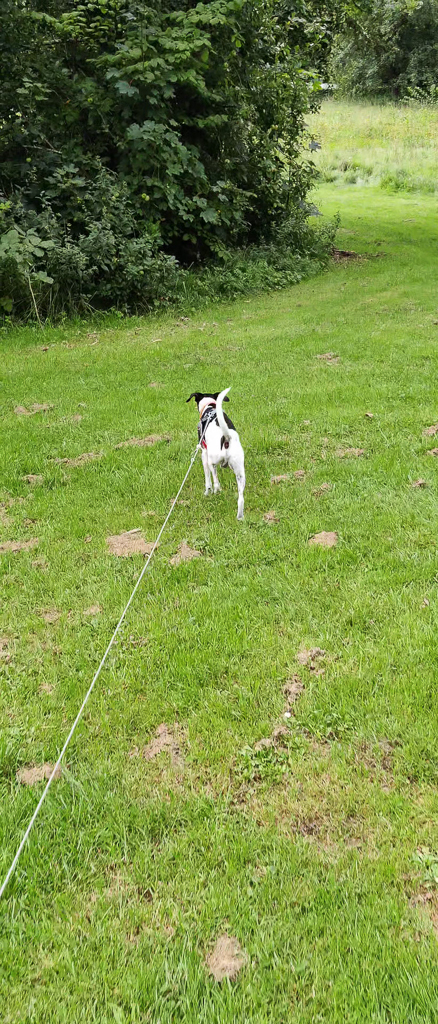Dog: (179, 377, 257, 533)
